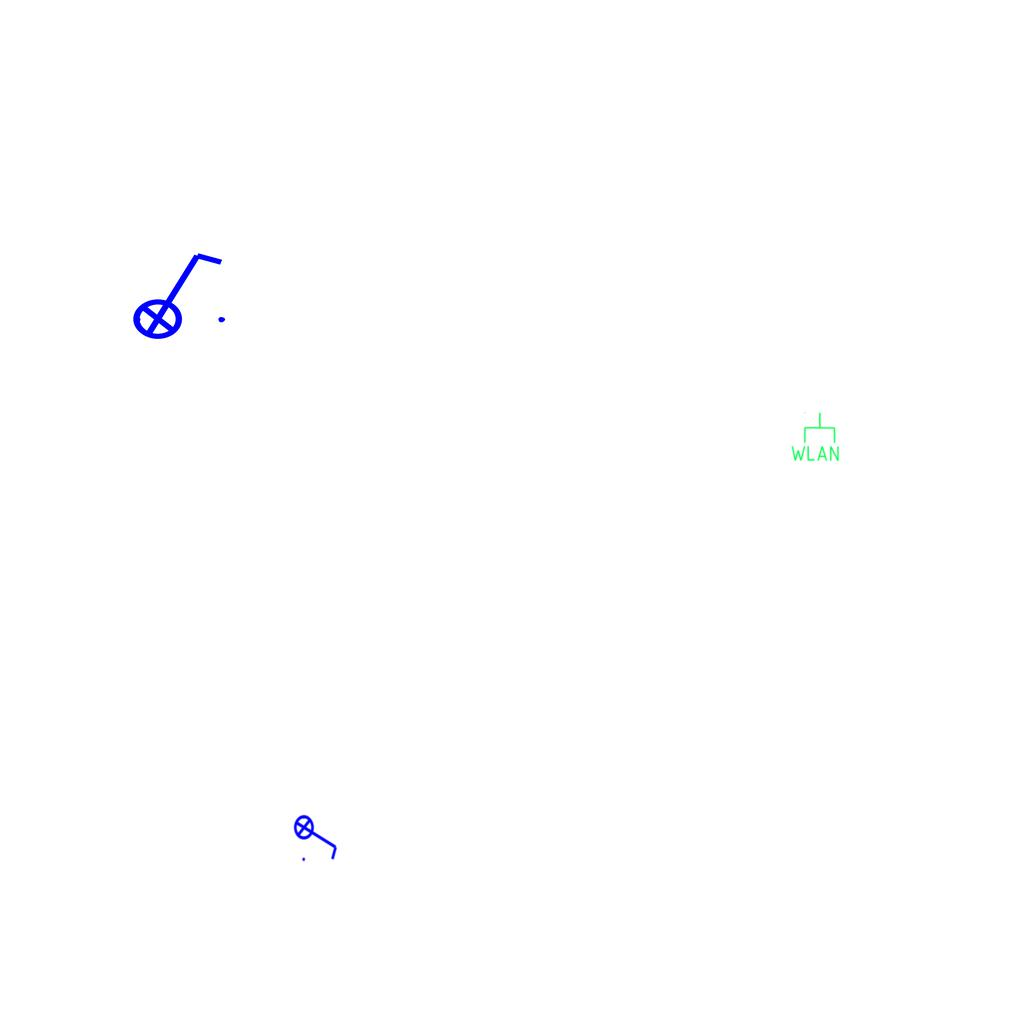Ausschalter_beleuchtet: (119, 245, 231, 341), (293, 808, 341, 864)
WLAN: (789, 411, 841, 463)
